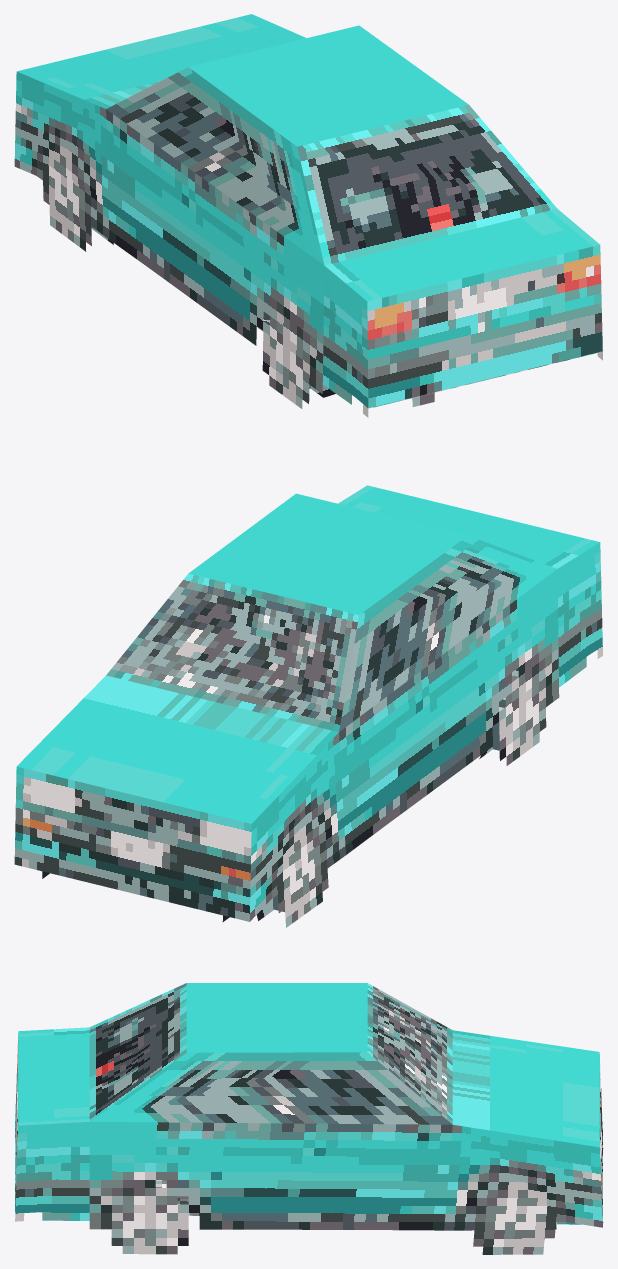
The model's file is car-jetta.glb.
3 views of the same model, one above another, from view 1: azimuth 30°, elevation 25°; view 2: azimuth 150°, elevation 25°; view 3: azimuth 270°, elevation 25° (orthographic). The views are drawn at different scales.
Parts seen in each view (by area): view 1: car-jetta; view 2: car-jetta; view 3: car-jetta.
Part boxes in pixels (x1,y1,x2,y2): car-jetta: (14, 14, 602, 417); car-jetta: (14, 485, 602, 927); car-jetta: (15, 983, 603, 1254).
Bounding box in the file's own units: 1.67 × 1.53 × 4.33.
15 materials, 15 textured.
